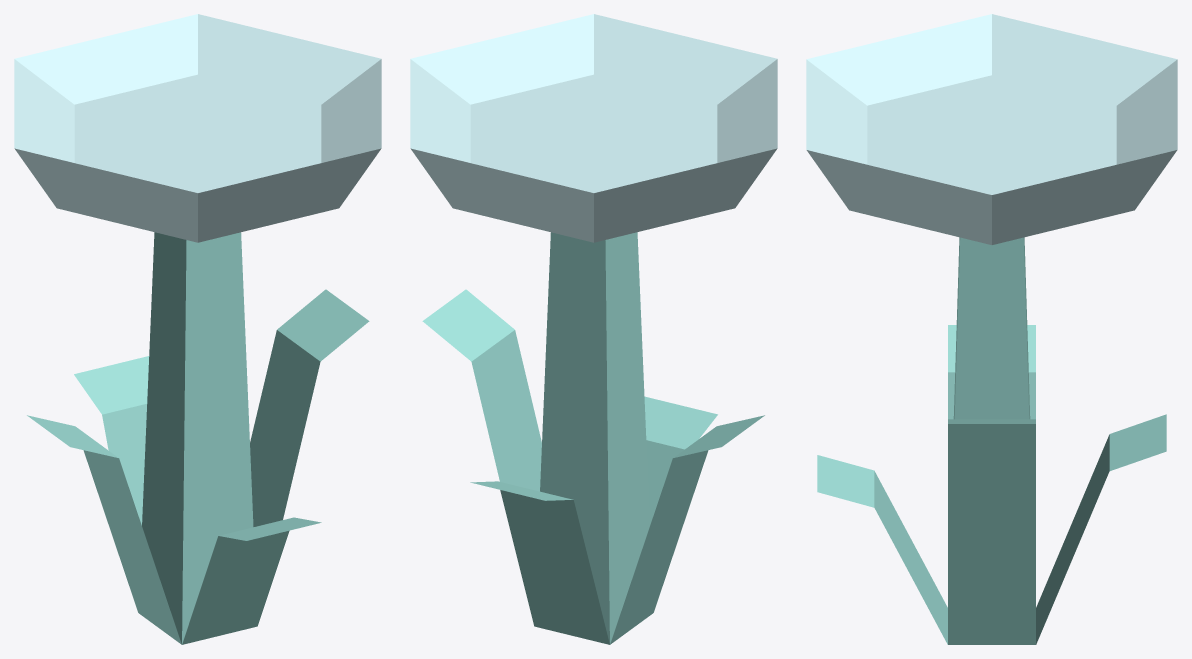
The model's file is flower_blue3.glb.
3 renders of one model, left to right at view 1: azimuth 30°, elevation 25°; view 2: azimuth 150°, elevation 25°; view 3: azimuth 270°, elevation 25°, orthographic.
Parts seen in each view (by area): view 1: flower_blue3; view 2: flower_blue3; view 3: flower_blue3.
Part boxes in pixels (x1=…): flower_blue3: x1=14, y1=14, x2=381, y2=644; flower_blue3: x1=410, y1=14, x2=777, y2=644; flower_blue3: x1=806, y1=14, x2=1177, y2=644.
Bounding box in the file's own units: 0.1513 × 0.2032 × 0.131.
